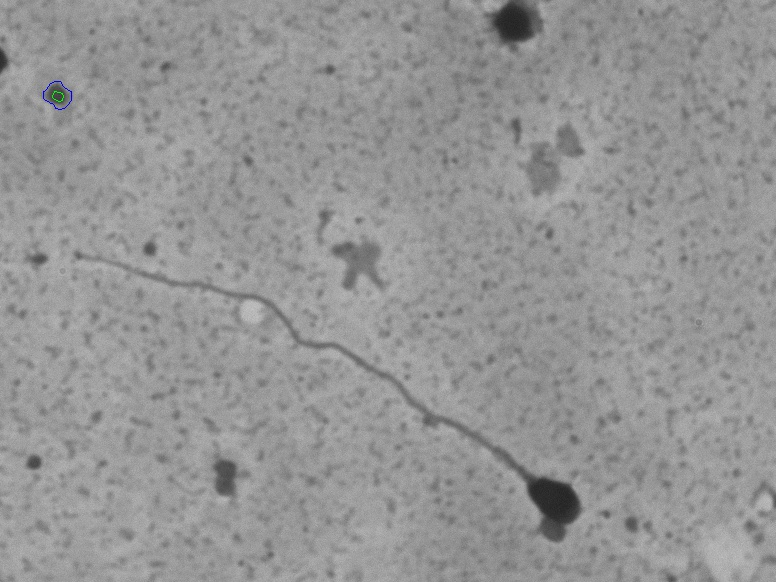Normal: (67, 238, 592, 531)
